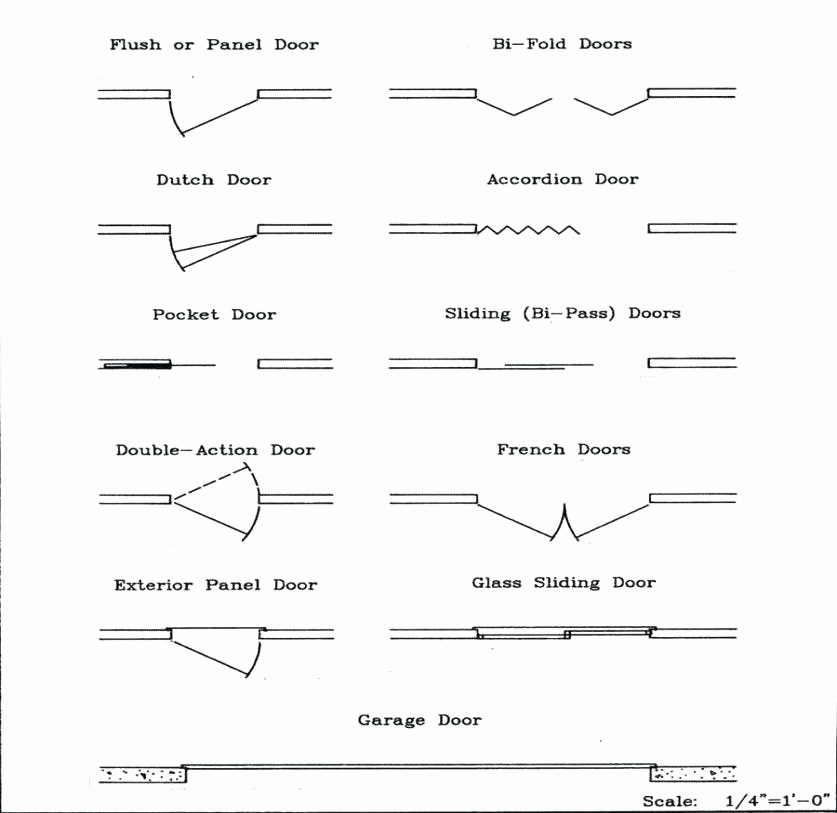door: (480, 93, 644, 141), (490, 498, 628, 555), (169, 613, 263, 690), (174, 465, 263, 543), (158, 240, 257, 288), (482, 218, 612, 250), (165, 103, 262, 145)
